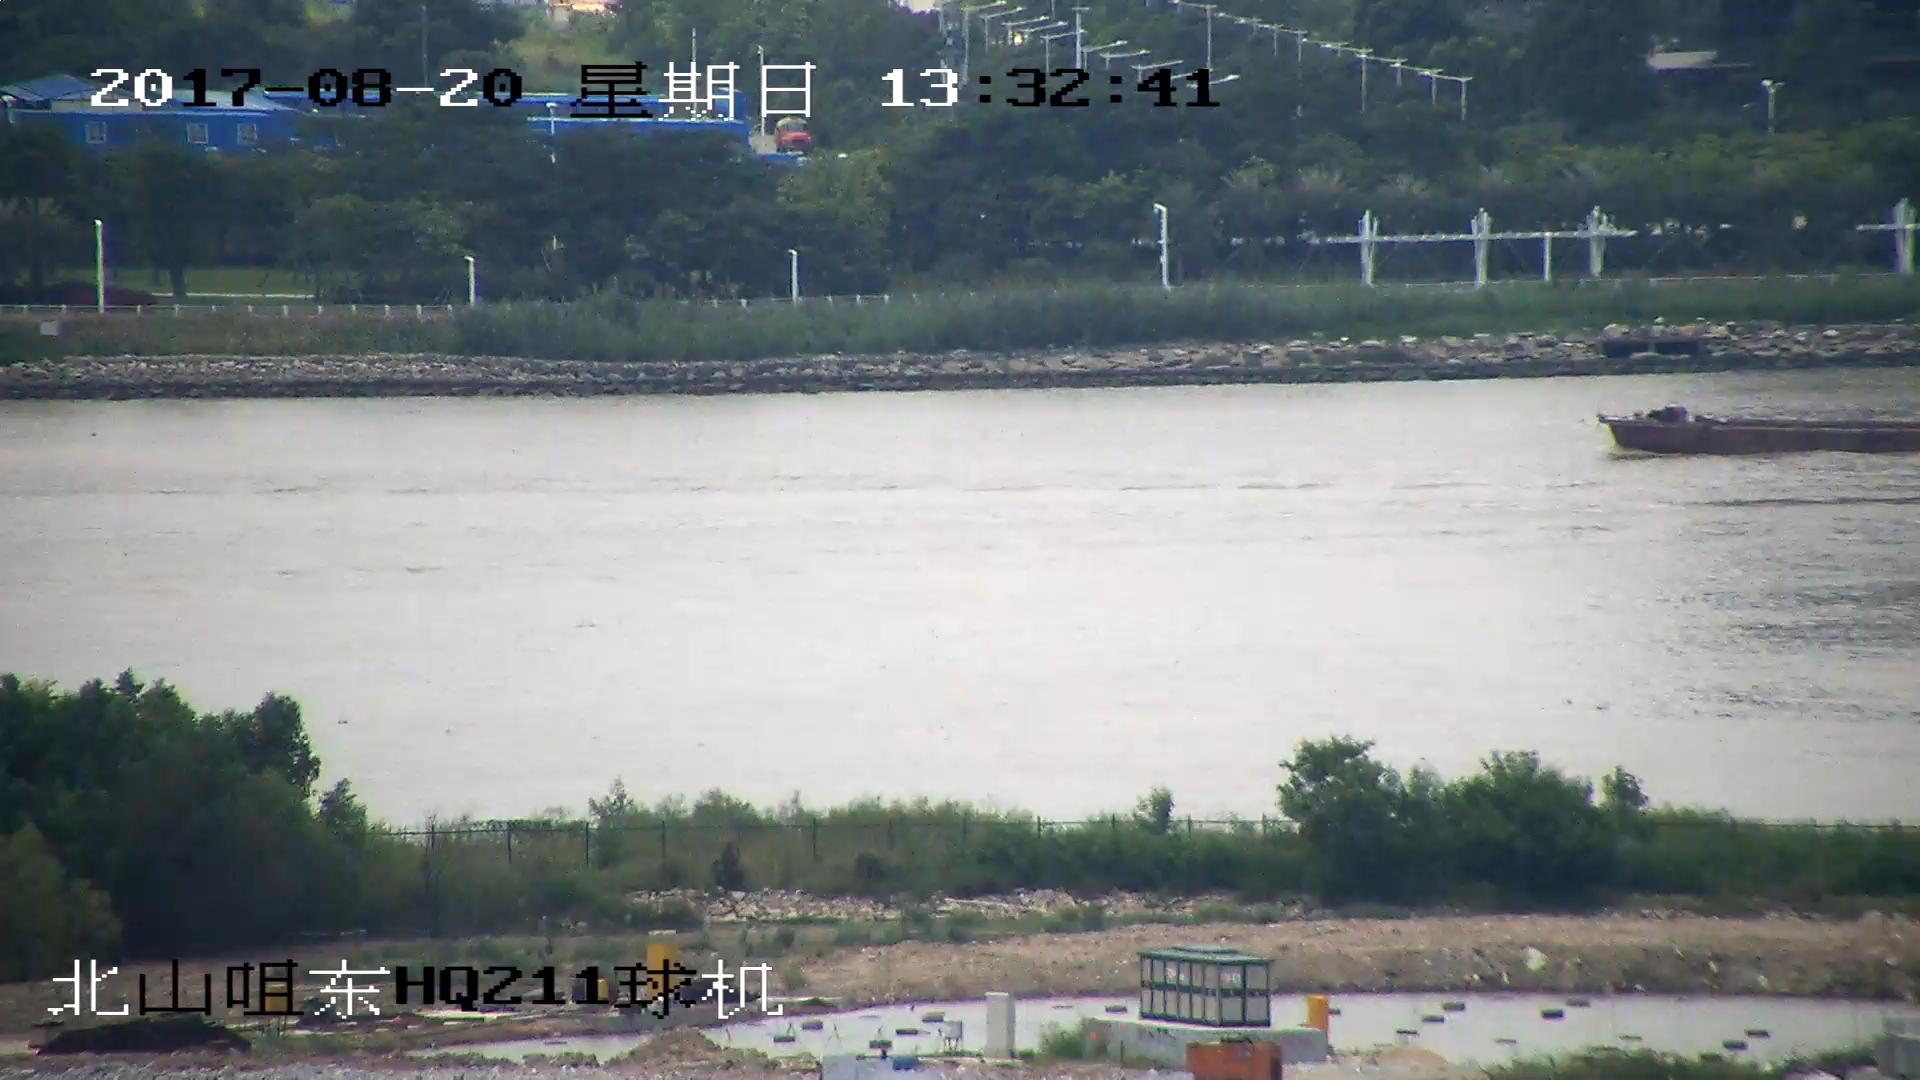bulk cargo carrier: (1601, 405, 1920, 458)
